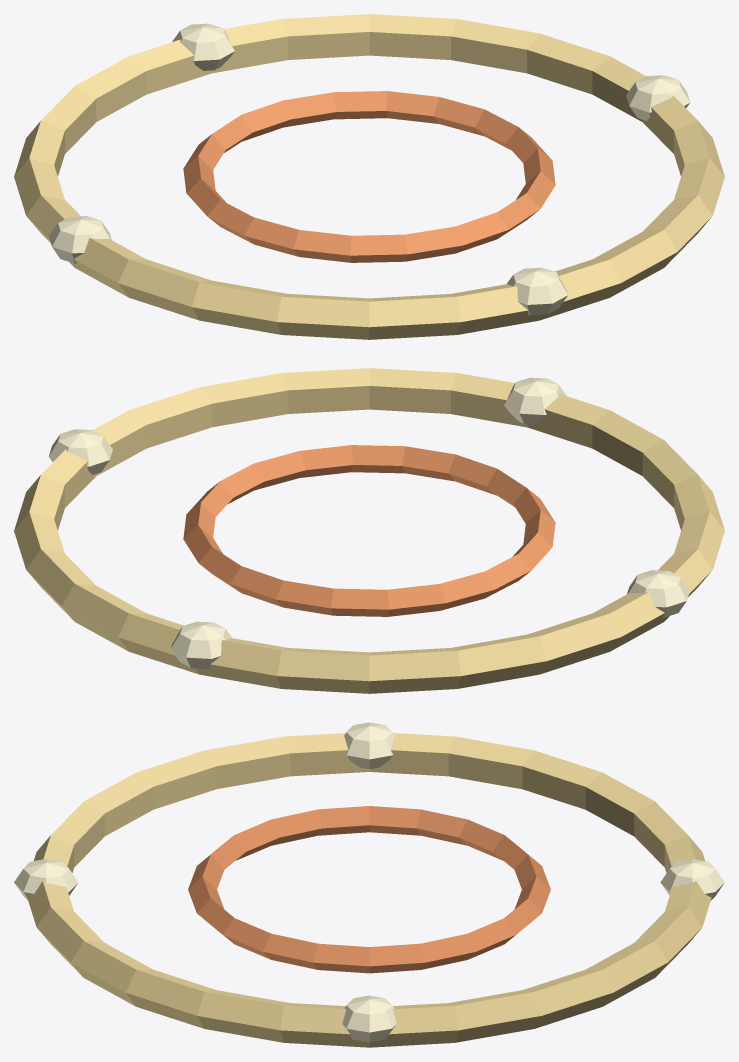
File: indicador_caida.glb
3 renders of one model, top to bottom at view 1: azimuth 30°, elevation 25°; view 2: azimuth 150°, elevation 25°; view 3: azimuth 270°, elevation 25°, orthographic. The views are drawn at different scales.
Visible parts, largest first — view 1: indicador_caida; view 2: indicador_caida; view 3: indicador_caida.
Part boxes in pixels (left/top/right/bottom): indicador_caida: left=14, top=14, right=724, bottom=339; indicador_caida: left=14, top=368, right=724, bottom=693; indicador_caida: left=14, top=722, right=724, bottom=1047.
Bounding box in the file's own units: 1.32 × 0.093 × 1.32.
